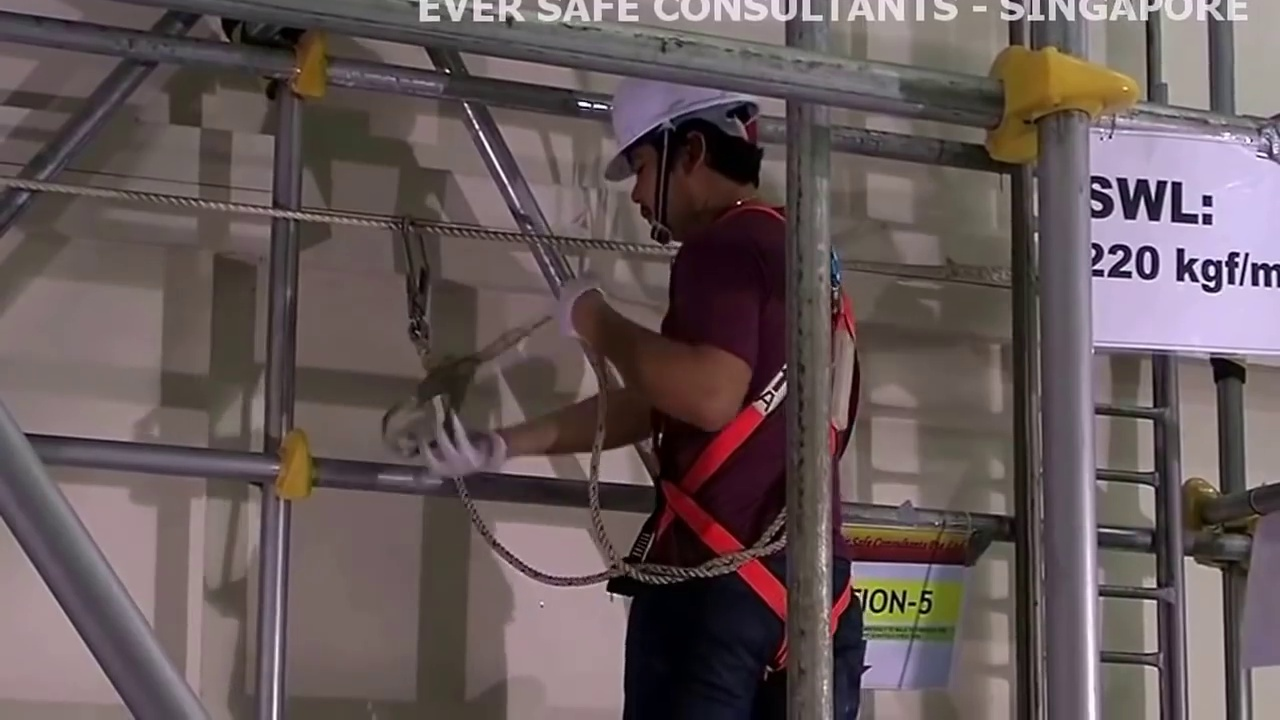harness: (755, 209, 861, 678)
helmet: (601, 75, 744, 136)
hook: (395, 213, 437, 337)
leash: (445, 482, 710, 608)
